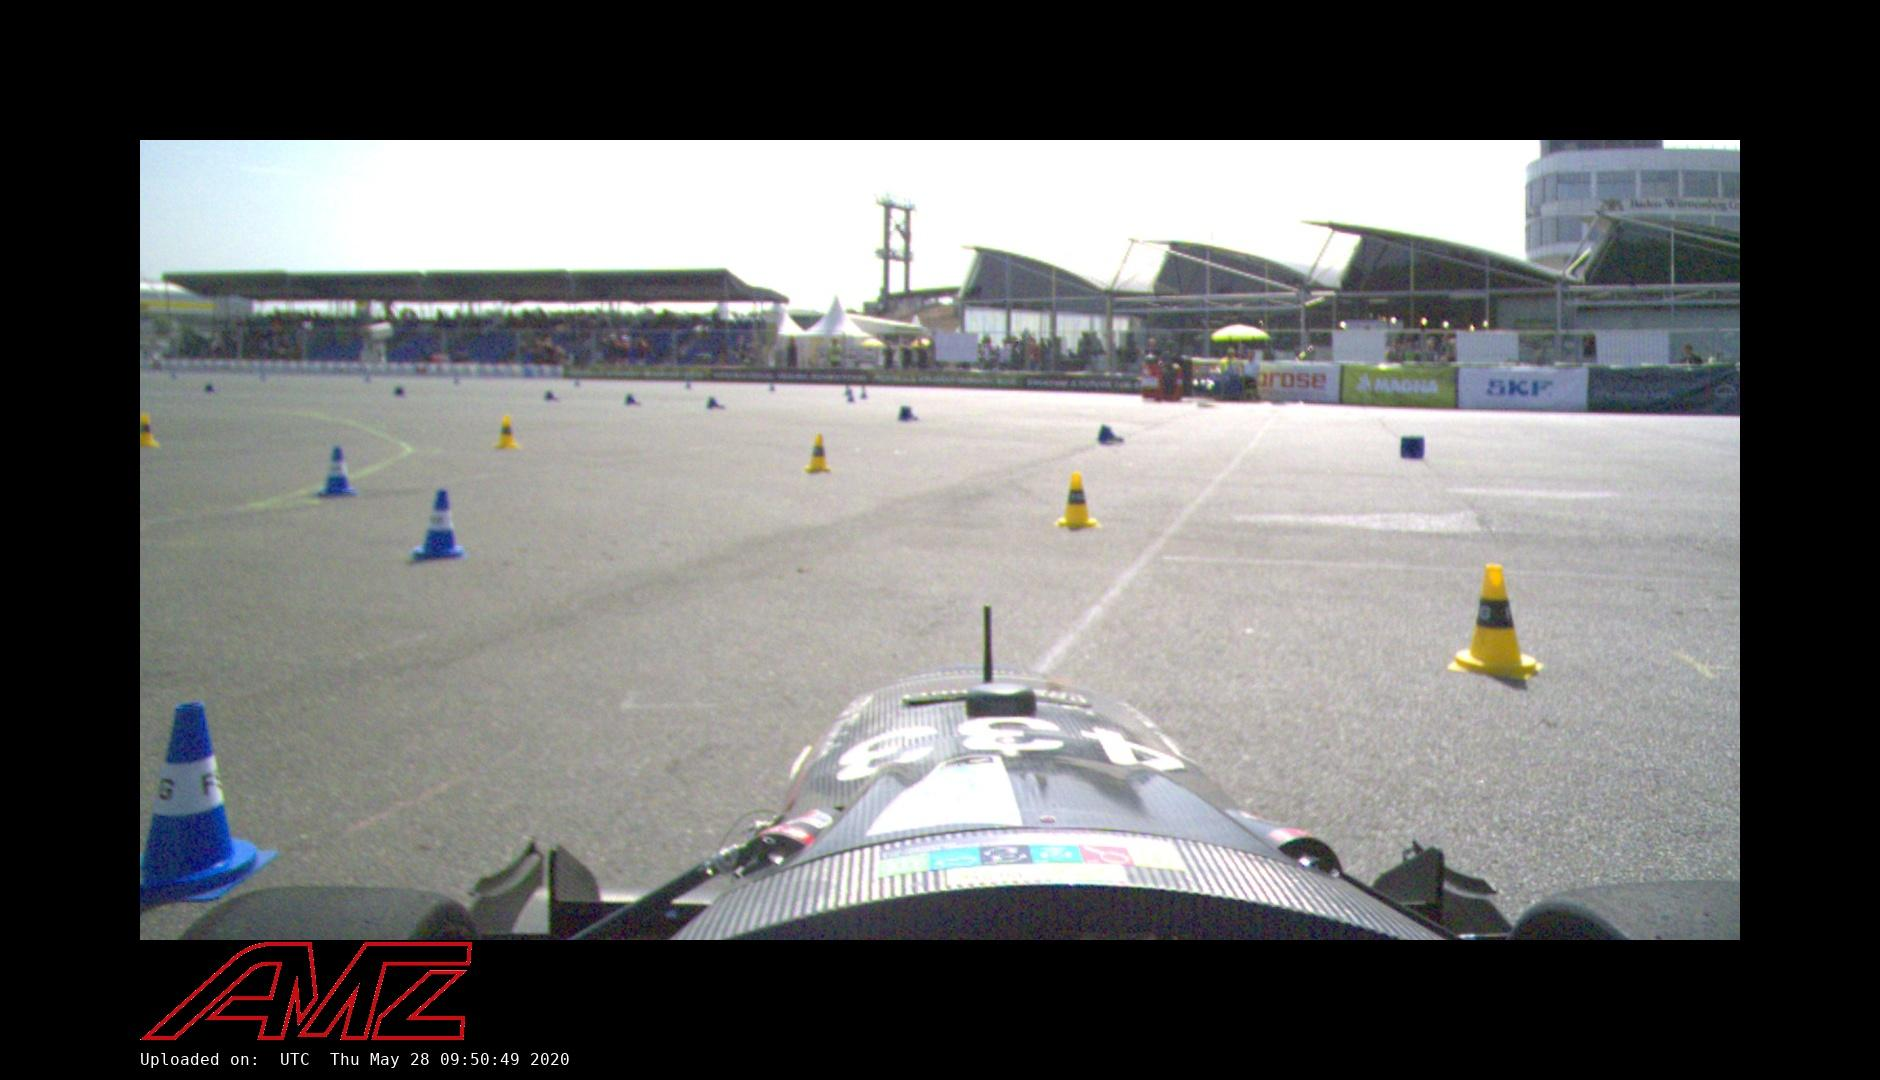blue_cone: (140, 692, 263, 905), (409, 489, 468, 564), (316, 442, 358, 498), (1096, 425, 1125, 446), (898, 405, 920, 422), (705, 397, 726, 410), (624, 393, 642, 406), (543, 388, 560, 401)
yellow_cone: (1451, 563, 1544, 677), (1056, 471, 1100, 529), (804, 433, 835, 475), (491, 413, 521, 454), (140, 409, 161, 450)
